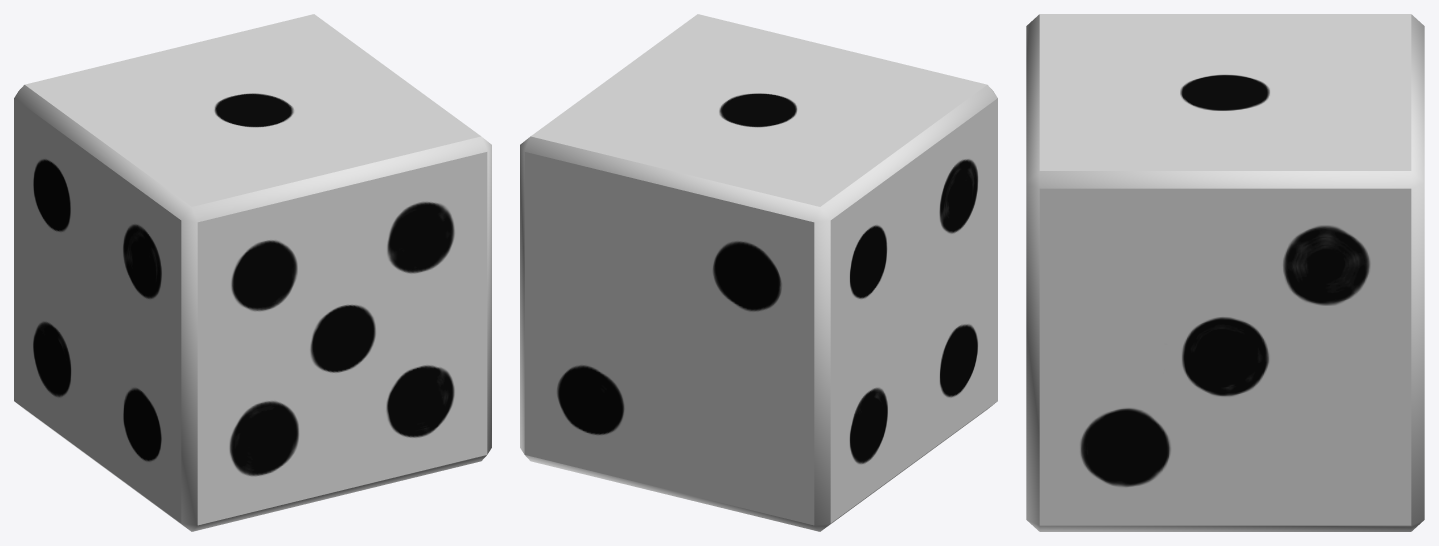
3 renders of one model, left to right at view 1: azimuth 30°, elevation 25°; view 2: azimuth 150°, elevation 25°; view 3: azimuth 270°, elevation 25°, orthographic. The views are drawn at different scales.
Parts seen in each view (by area): view 1: Dice_d6_LP; view 2: Dice_d6_LP; view 3: Dice_d6_LP.
Part boxes in pixels (bbox=[...]): Dice_d6_LP: bbox=[14, 14, 491, 531]; Dice_d6_LP: bbox=[520, 14, 997, 531]; Dice_d6_LP: bbox=[1026, 14, 1424, 531].
Bounding box in the file's own units: 0.06 × 0.06 × 0.06.
Materials: 1 (1 with a texture image).
